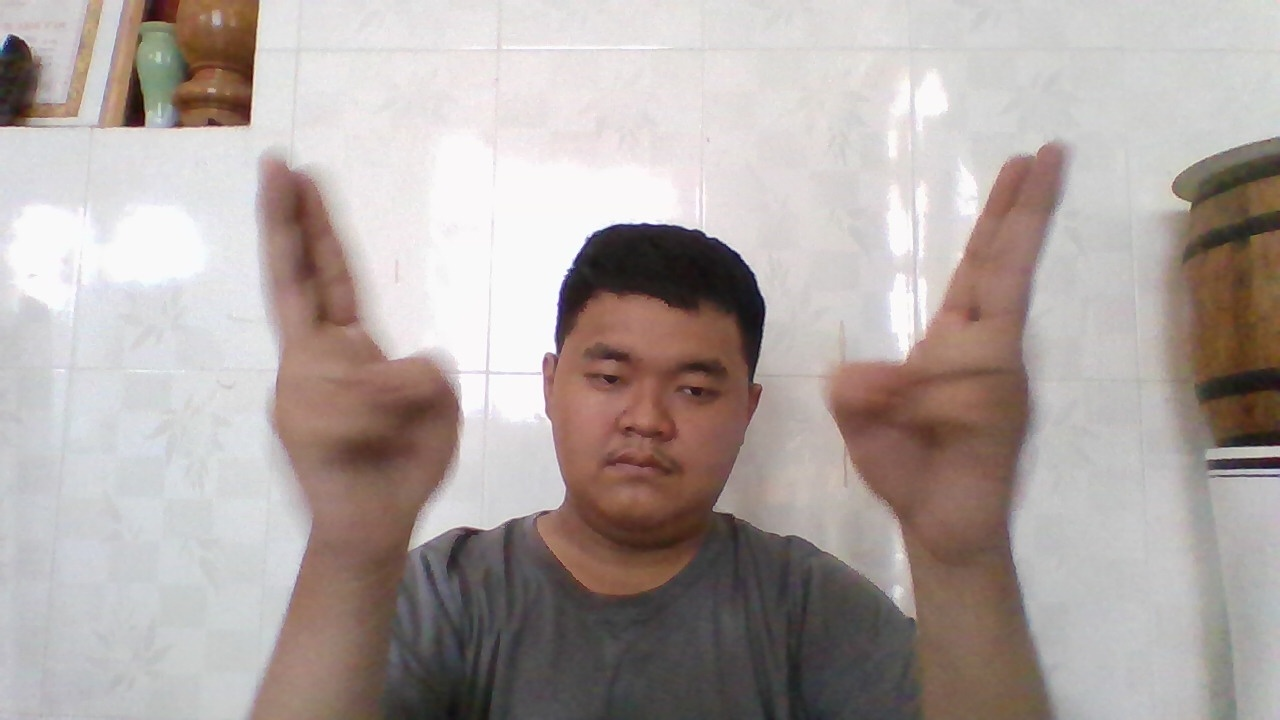U: (834, 144, 1070, 557), (261, 164, 460, 561)
